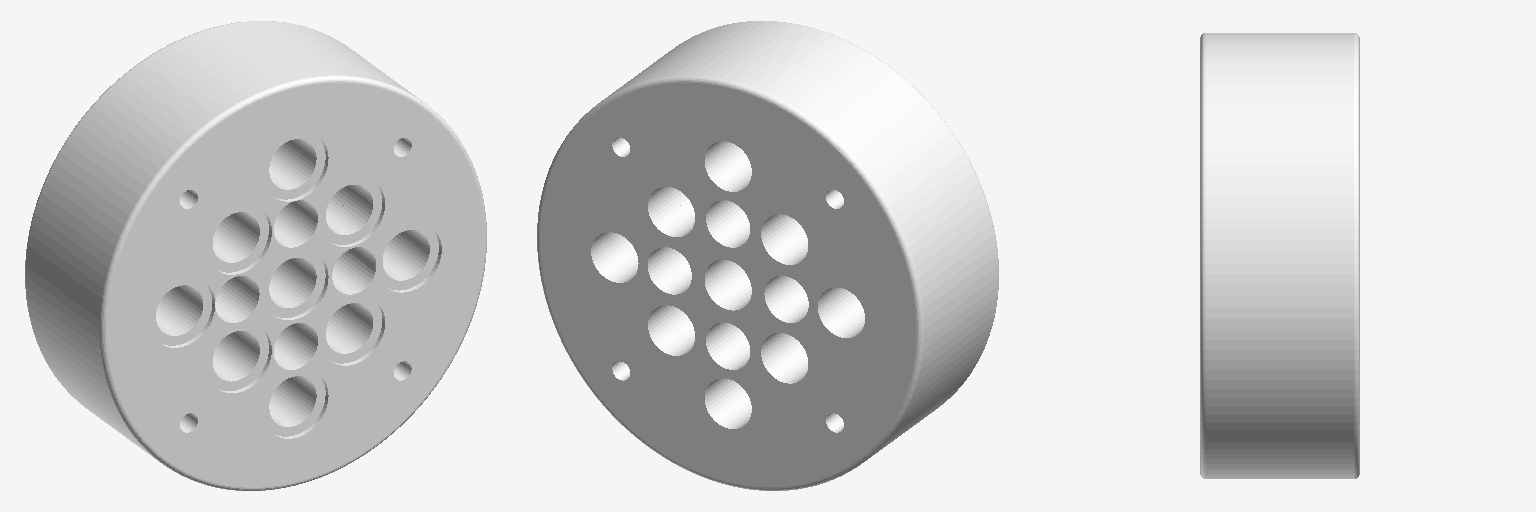
File: joint7.obj
The picture shows the model from 3 angles: view 1: azimuth 30°, elevation 25°; view 2: azimuth 150°, elevation 25°; view 3: azimuth 270°, elevation 25°; orthographic projection.
Size of the model in its own units: 0.0384 by 0.0384 by 0.0137.